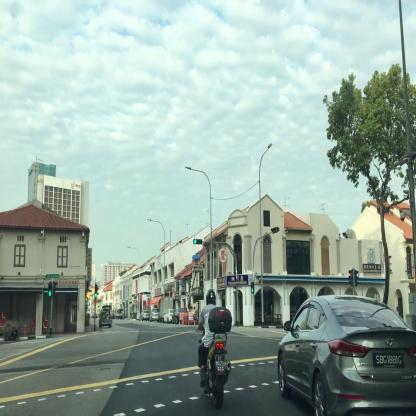green_traffic_light: (193, 238, 202, 244), (94, 285, 97, 297)
